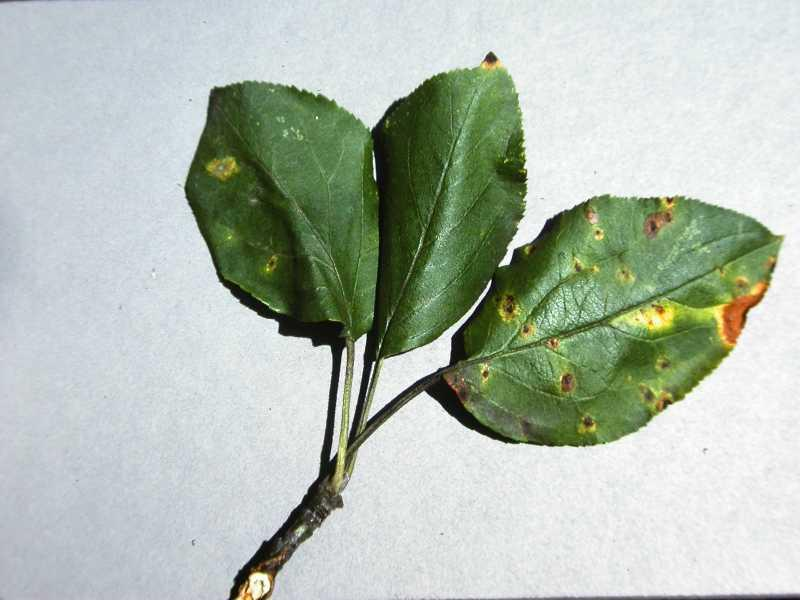Apple Scab Leaf: (448, 174, 800, 458), (364, 34, 548, 381), (183, 68, 393, 350)
